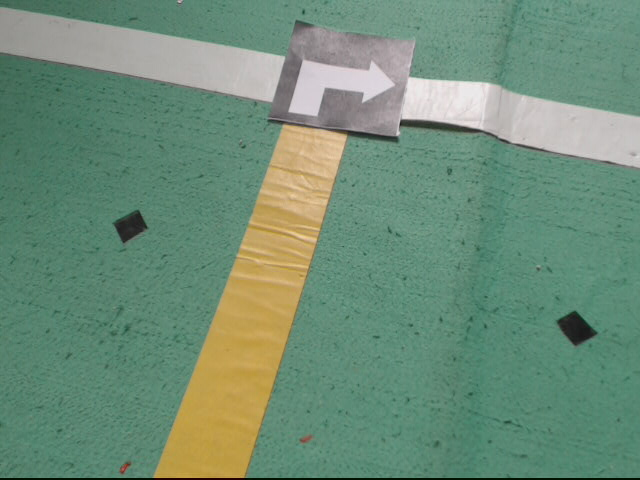right: (266, 21, 417, 139)
